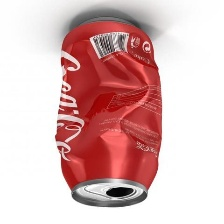can: (51, 10, 166, 209)
